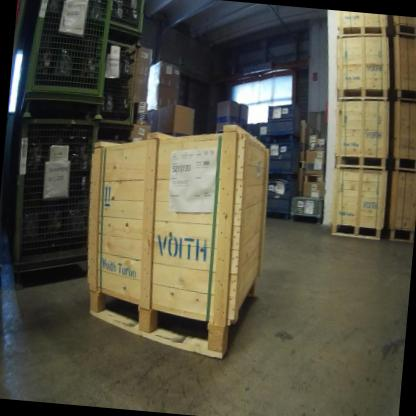pallet: (303, 171, 326, 186), (214, 127, 230, 137), (297, 160, 307, 173), (296, 145, 307, 153)
stillage: (0, 106, 110, 305), (21, 0, 119, 128), (91, 36, 147, 137), (7, 0, 36, 125), (96, 0, 150, 42), (261, 134, 301, 180), (265, 98, 305, 143), (267, 177, 301, 225), (0, 204, 11, 304)
